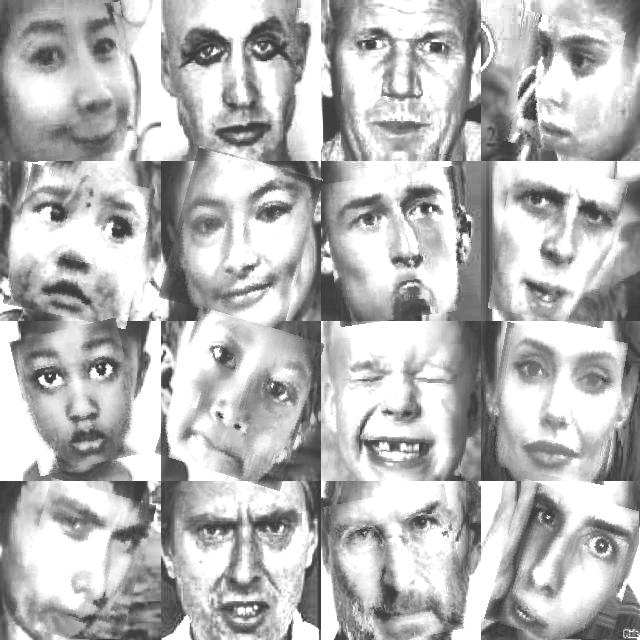angry: (493, 165, 622, 324), (21, 483, 147, 640), (174, 491, 304, 640)
fear: (493, 486, 638, 640), (10, 169, 148, 324), (336, 8, 466, 154), (506, 15, 620, 157)
happy: (167, 152, 314, 323), (14, 4, 134, 159), (329, 339, 465, 475)
neutral: (164, 314, 315, 484), (326, 169, 474, 323), (488, 327, 623, 481), (329, 489, 465, 640), (169, 9, 307, 154), (16, 323, 139, 471)
